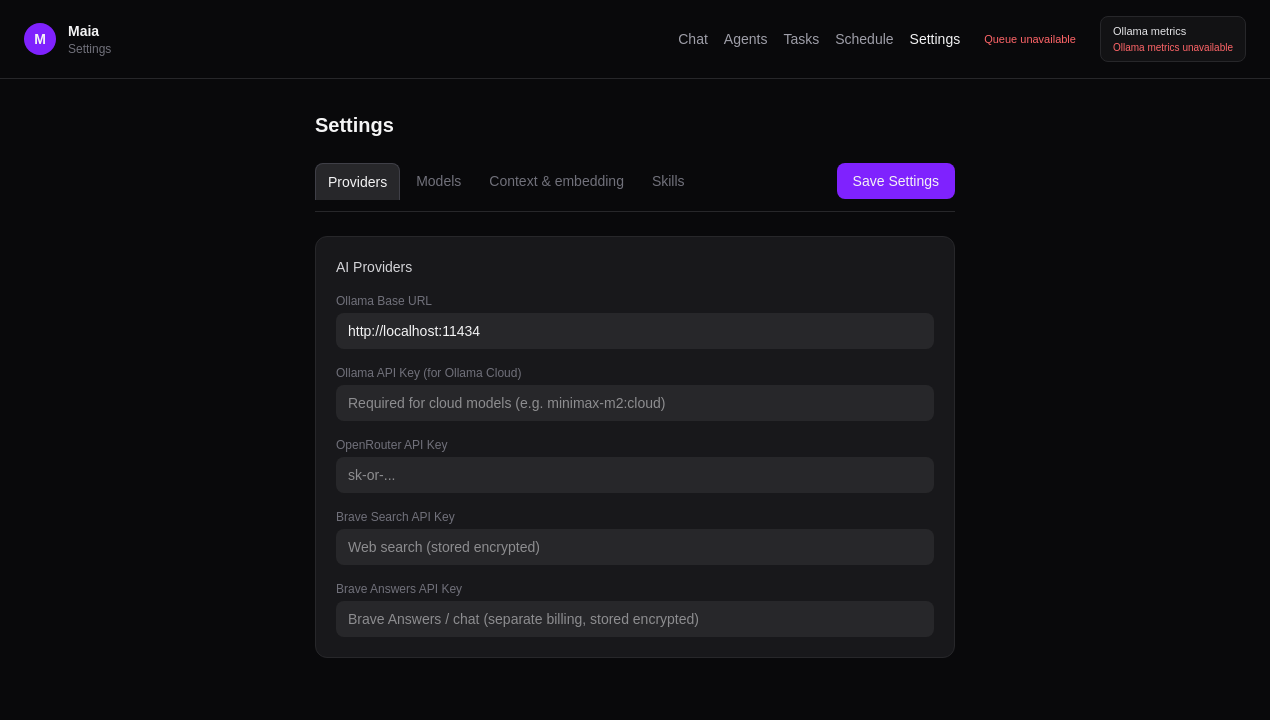
Test case: Settings page › keeps params with model when renaming: save sends params under new id
Click the tab "Models": (439, 180) [404, 162, 473, 198]
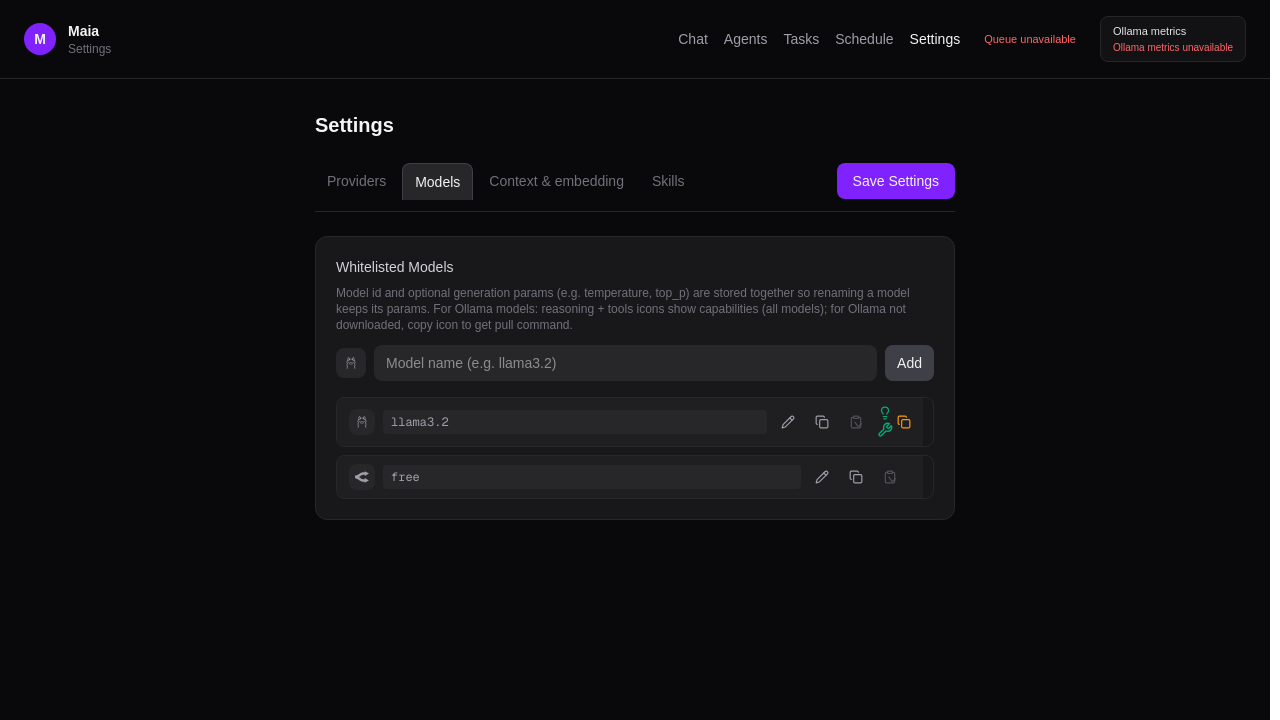
Result: the heading "Whitelisted Models" is shown at [336, 258, 454, 274]
Click the button named "Edit ollama/llama3.2": (788, 422) [775, 408, 801, 434]
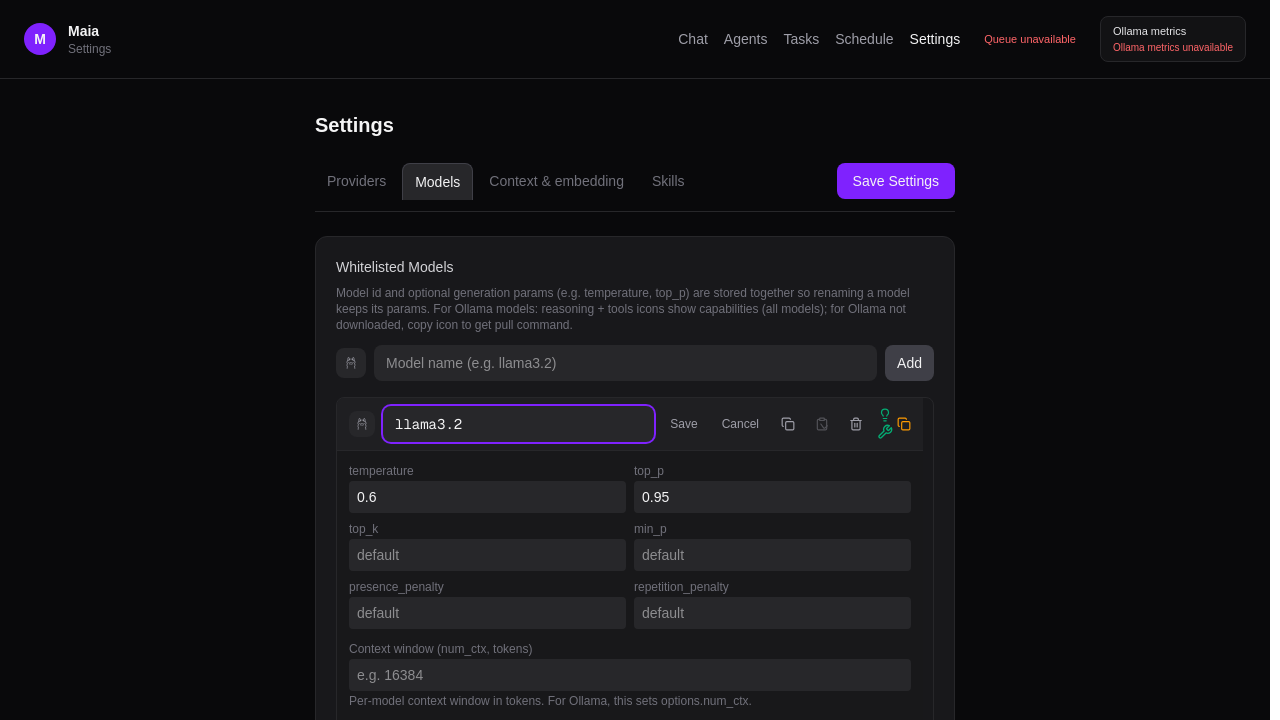
Result: the field named "Edit model name" holds "llama3.2"
Replace the text in the field named "Edit model name" with "llama3.2-renamed": (519, 424) [383, 406, 654, 442]
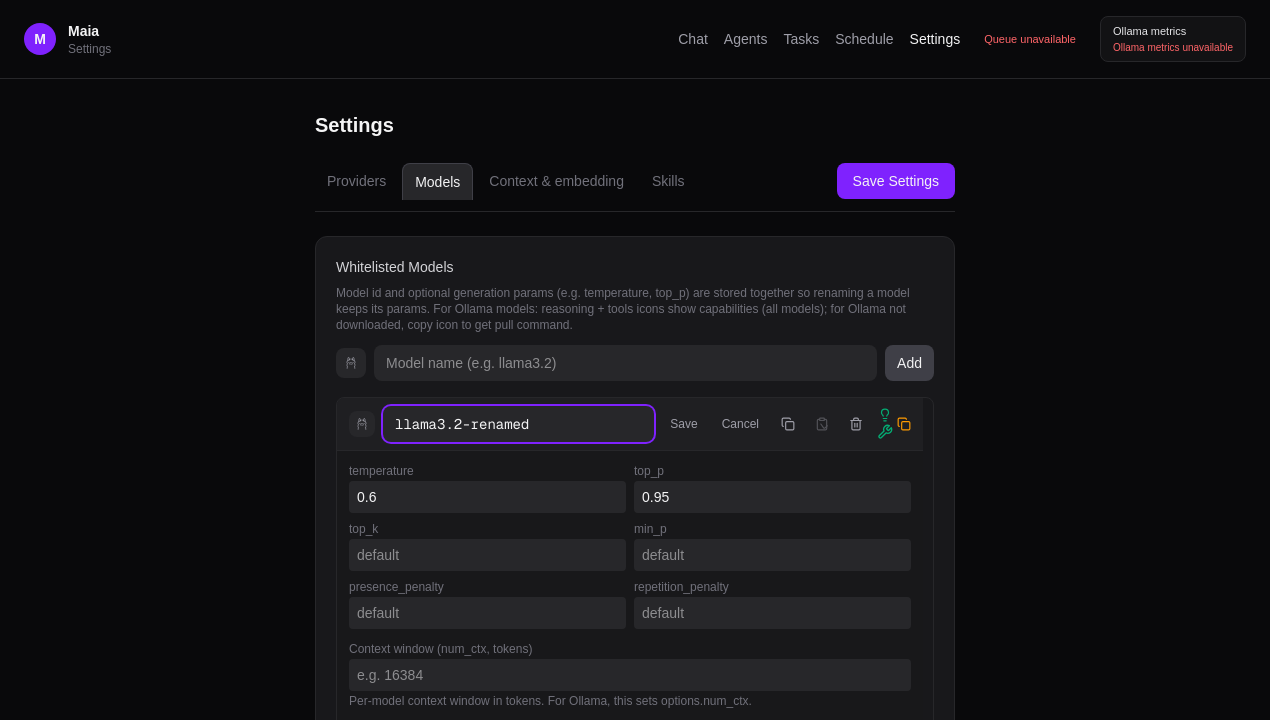
Click the button with aria-label "Save edit": (684, 424) [662, 412, 706, 436]
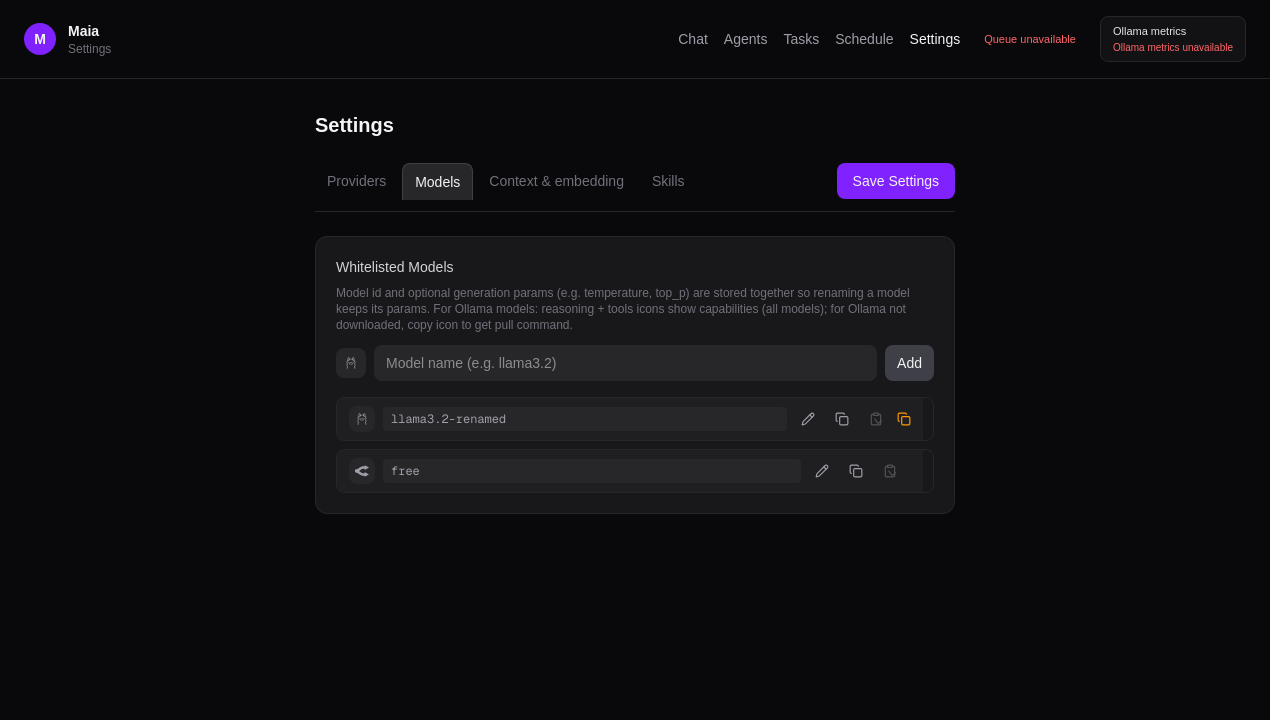
Result: the text "llama3.2-renamed" is shown at [383, 406, 787, 430]
Click the button "Save Settings": (896, 180) [837, 162, 955, 198]
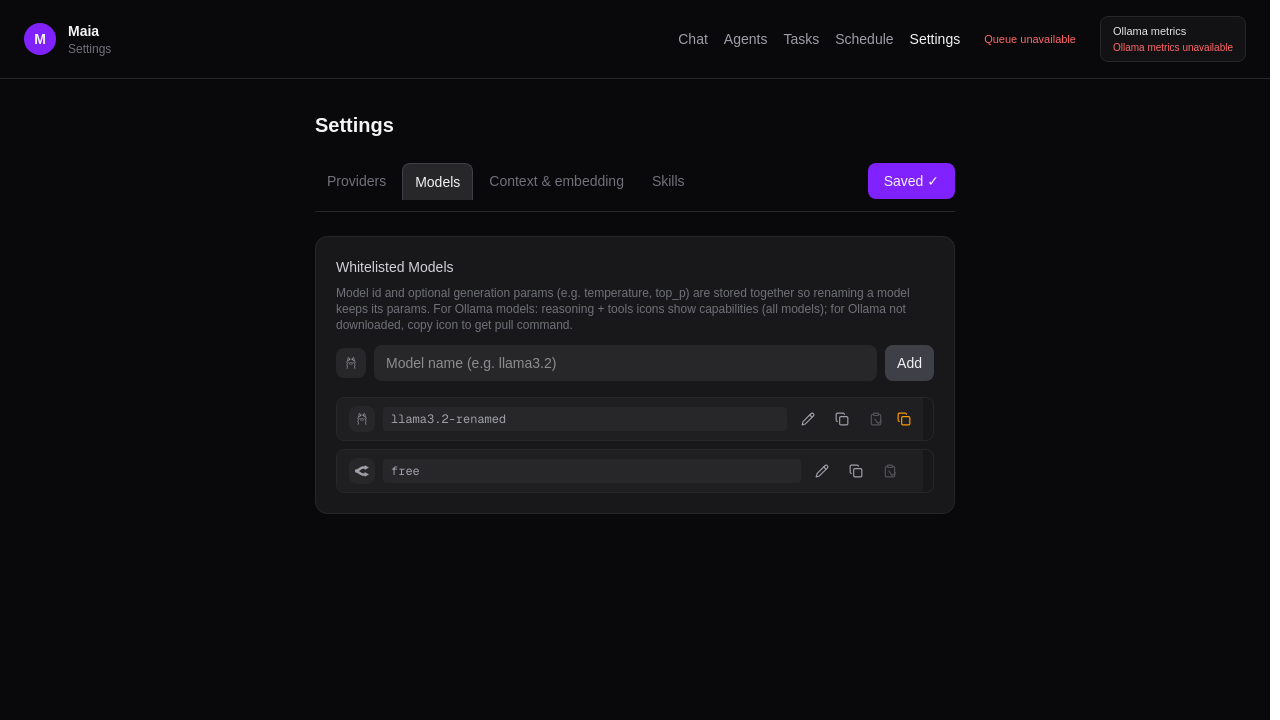
Result: the button "Saved ✓" is shown at [868, 162, 955, 198]
